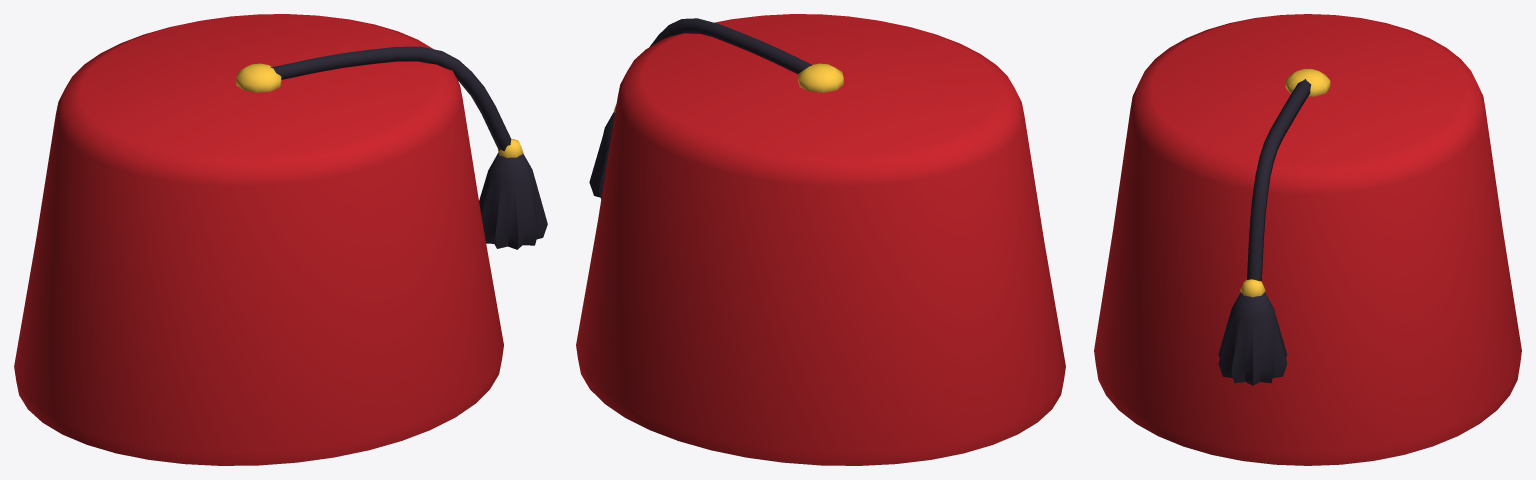
The model's file is fez.glb.
3 views of the same model, side by side, from view 1: azimuth 30°, elevation 25°; view 2: azimuth 150°, elevation 25°; view 3: azimuth 270°, elevation 25° (orthographic). The views are drawn at different scales.
Parts seen in each view (by area): view 1: fez; view 2: fez; view 3: fez.
Boxes of the visible parts, <box> form: fez: <box>14,14,547,465</box>; fez: <box>576,14,1065,465</box>; fez: <box>1094,14,1521,465</box>.
Size of the model in its own units: 0.5358 by 0.3302 by 0.4347.
